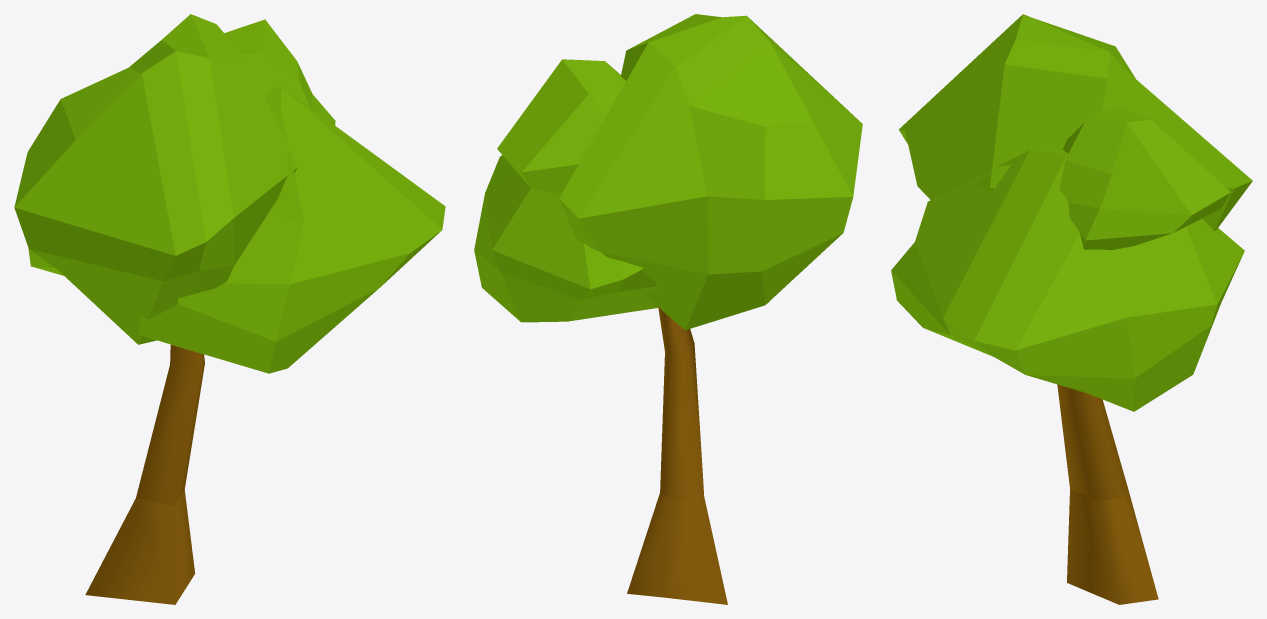
Rendered from tree_d_01.fbx.
The picture shows the model from 3 angles, left to right: view 1: azimuth 30°, elevation 25°; view 2: azimuth 150°, elevation 25°; view 3: azimuth 270°, elevation 25°; orthographic projection. The views are drawn at different scales.
Visible parts, largest first — view 1: pCube12, pCube11, pCube9, pCube13; view 2: pCube12, pCube11, pCube9, pCube13; view 3: pCube11, pCube12, pCube13, pCube9.
Part boxes in pixels (left/top/right/bottom): pCube12: left=14, top=14, right=298, bottom=344; pCube11: left=138, top=86, right=445, bottom=373; pCube9: left=85, top=344, right=204, bottom=604; pCube13: left=224, top=19, right=335, bottom=125; pCube12: left=559, top=14, right=862, bottom=330; pCube11: left=474, top=155, right=658, bottom=322; pCube9: left=627, top=306, right=727, bottom=604; pCube13: left=497, top=59, right=626, bottom=196; pCube11: left=891, top=148, right=1244, bottom=411; pCube12: left=898, top=14, right=1252, bottom=230; pCube13: left=1059, top=107, right=1230, bottom=250; pCube9: left=1057, top=384, right=1158, bottom=604.
Bounding box in the file's own units: 187 × 255 × 150.
